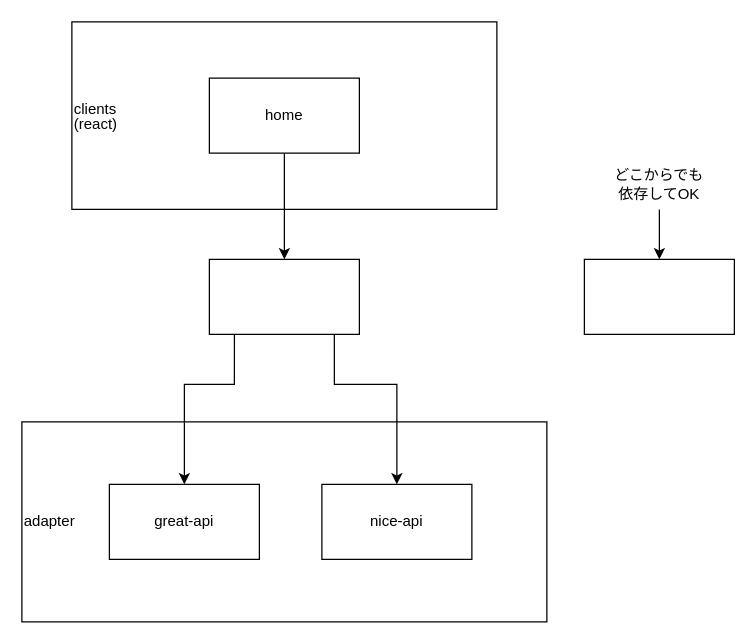
Some shapes in this 756 by 644 pixel diagram are drawn without their labels. Here are the shapes that lost their labels. From the top down, the centre of each, then its label:
the point at 283,296: usecase
the point at 658,296: domain
